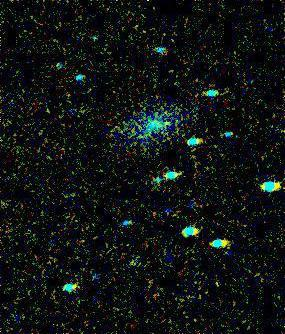star: (152, 109, 182, 139)
